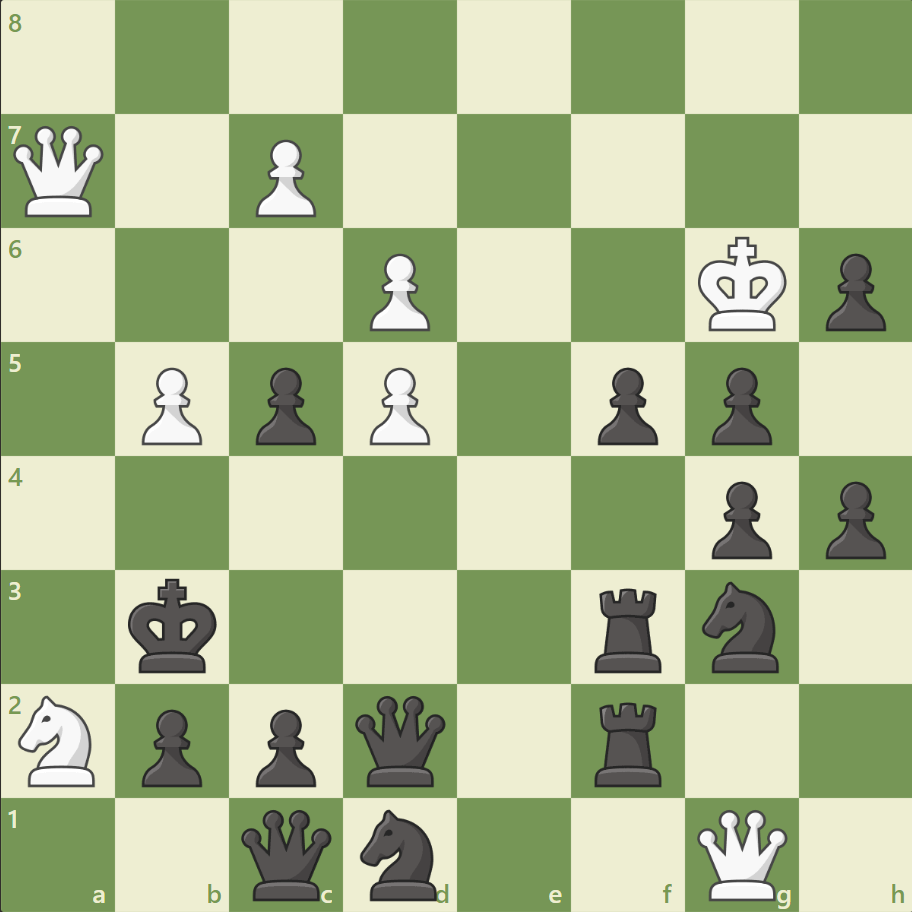K: (692, 231, 792, 339)
N: (11, 688, 108, 791)
P: (247, 132, 322, 223), (133, 359, 208, 450), (361, 246, 435, 337), (361, 359, 435, 450)
Q: (10, 122, 109, 222), (691, 804, 790, 903)
k: (124, 571, 224, 679)
n: (351, 802, 449, 904), (692, 575, 789, 677)
p: (247, 359, 322, 450), (701, 359, 776, 450), (701, 473, 776, 564), (133, 700, 208, 791), (247, 700, 322, 791), (815, 246, 889, 337), (588, 359, 662, 450), (815, 473, 889, 564)
q: (351, 690, 450, 789), (237, 804, 336, 903)
r: (587, 579, 670, 676), (587, 693, 670, 790)
